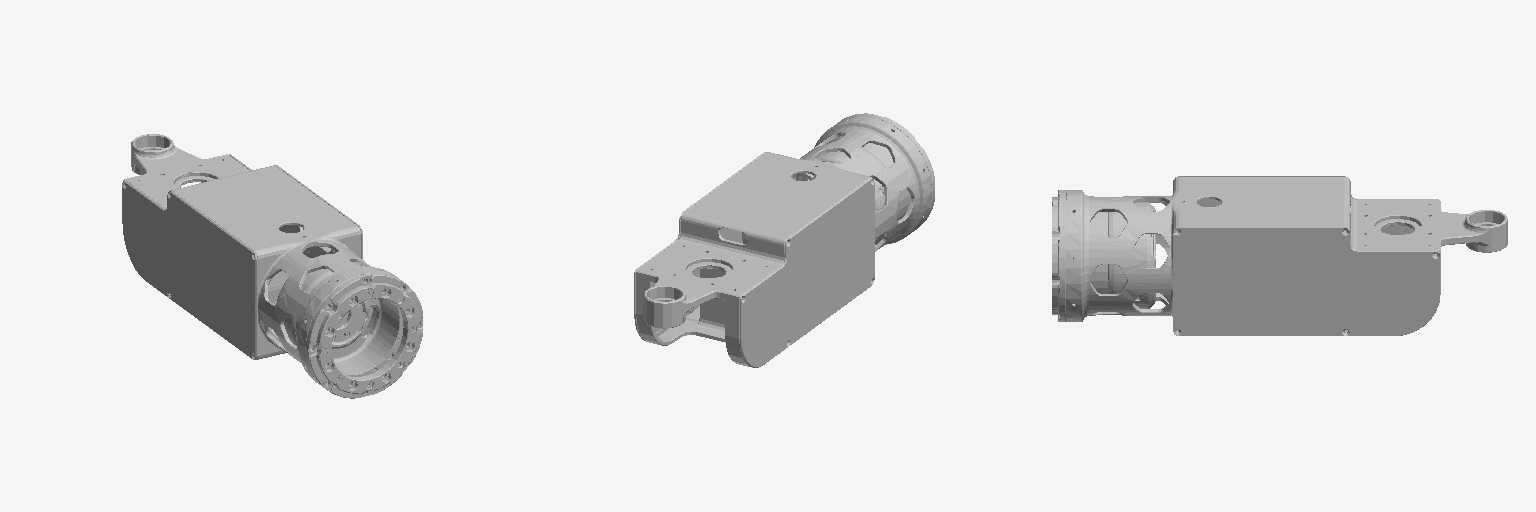
Rendered from right_hand_yaw_link.obj.
3 renders of one model, left to right at view 1: azimuth 30°, elevation 25°; view 2: azimuth 150°, elevation 25°; view 3: azimuth 270°, elevation 25°, orthographic.
Visible parts, largest first — view 1: right_hand_yaw_link; view 2: right_hand_yaw_link; view 3: right_hand_yaw_link.
Part boxes in pixels (left/top/right/bottom): right_hand_yaw_link: left=122, top=134, right=422, bottom=398; right_hand_yaw_link: left=634, top=113, right=934, bottom=367; right_hand_yaw_link: left=1052, top=176, right=1507, bottom=335.
Bounding box in the file's own units: 0.062 × 0.062 × 0.2131.